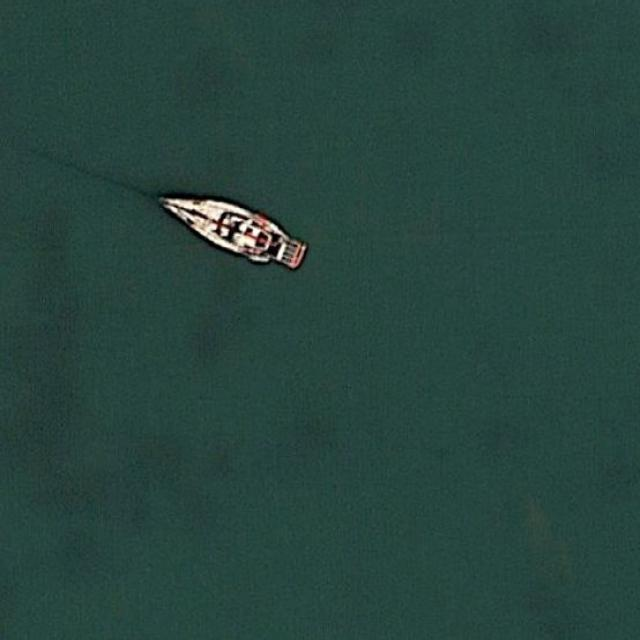boat: (146, 187, 310, 270)
